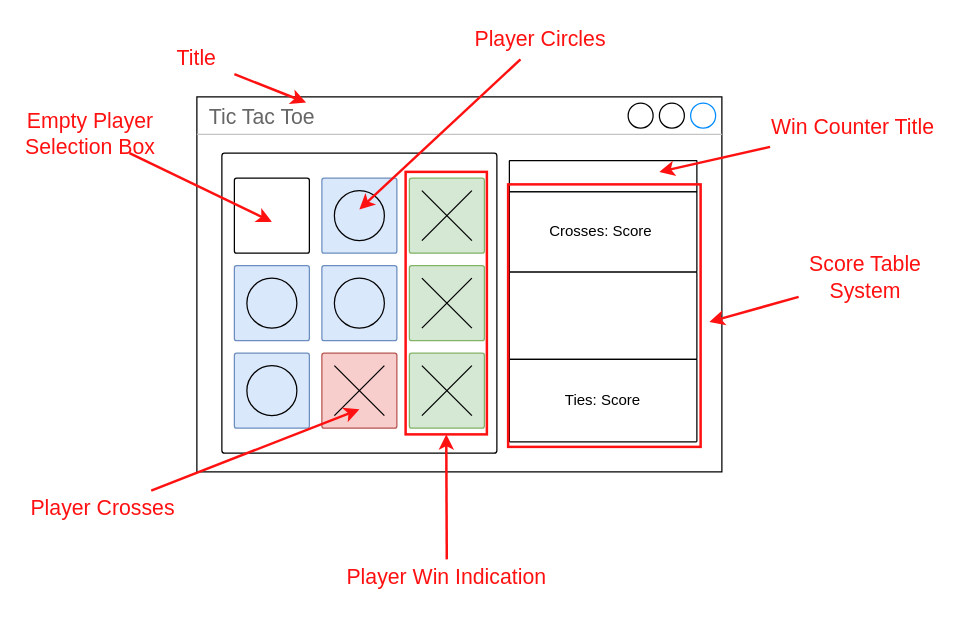
This 980x618 diagram has some shape labels left out. The centre of each missing label's shape, as x and y in pixels:
"Circles: Score" goes at [602,315].
"Win Counter" goes at [602,175].
